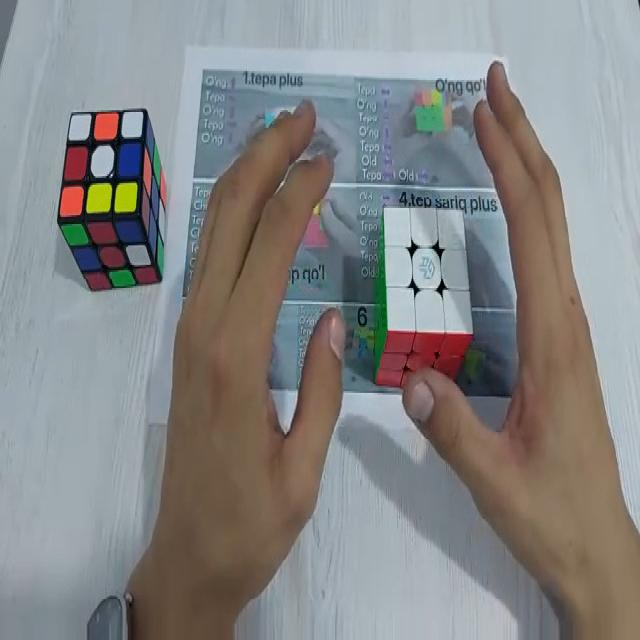Rub: (61, 107, 164, 289), (373, 204, 475, 386)
